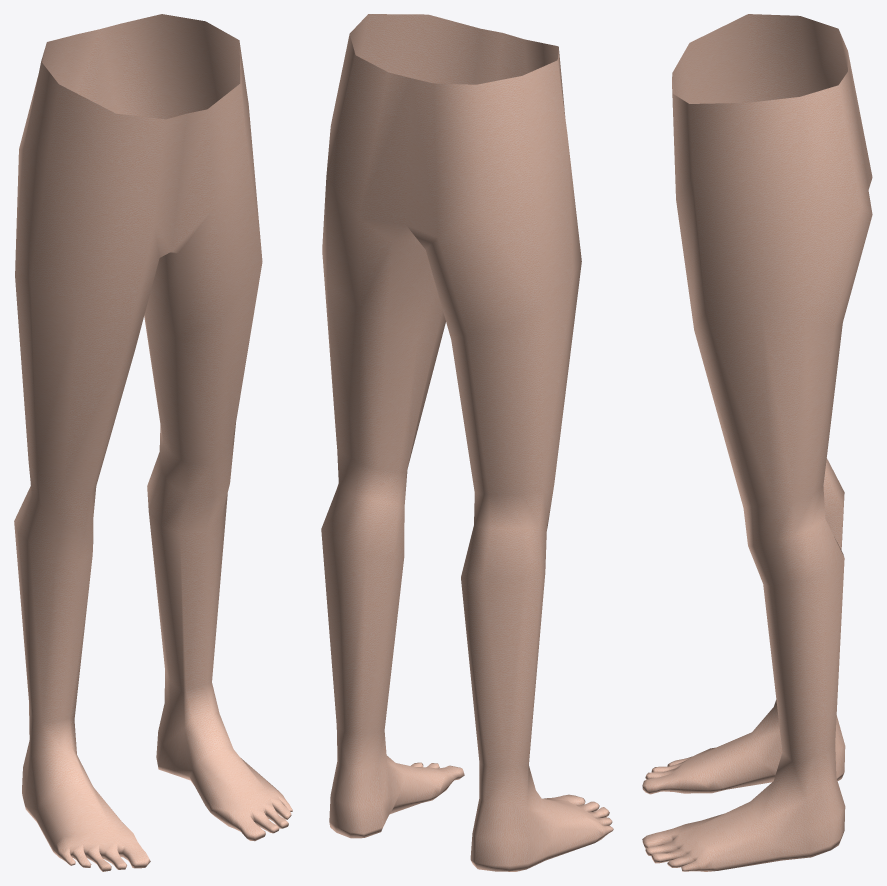
Rendered from Betadine Village_fbx_scence_05.fbx.
3 renders of one model, left to right at view 1: azimuth 30°, elevation 25°; view 2: azimuth 150°, elevation 25°; view 3: azimuth 270°, elevation 25°, orthographic. The views are drawn at different scales.
Visible parts, largest first — view 1: GrandmaLeg; view 2: GrandmaLeg; view 3: GrandmaLeg.
Boxes of the visible parts, left/top/right/bottom form: GrandmaLeg: left=14, top=14, right=292, bottom=871; GrandmaLeg: left=321, top=14, right=613, bottom=871; GrandmaLeg: left=642, top=14, right=872, bottom=871.
Size of the model in its own units: 27.25 by 87.82 by 23.96.
